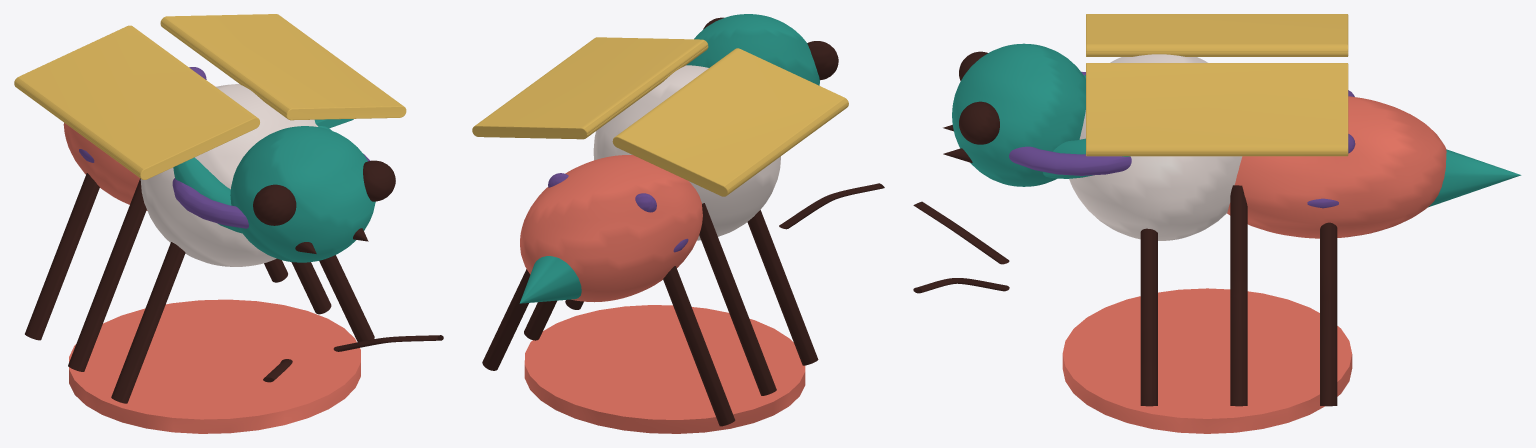
Rendered from 0027_昆虫图鉴_马达加斯加发声蟑螂.glb.
3 renders of one model, left to right at view 1: azimuth 30°, elevation 25°; view 2: azimuth 150°, elevation 25°; view 3: azimuth 270°, elevation 25°, orthographic. The views are drawn at different scales.
Parts seen in each view (by area): view 1: card_0027; view 2: card_0027; view 3: card_0027.
Boxes of the visible parts, x1,y1,x2,y2 form: card_0027: (14, 14, 443, 433); card_0027: (472, 14, 884, 433); card_0027: (913, 14, 1521, 433).
Size of the model in its own units: 0.9114 by 1 by 1.74.
